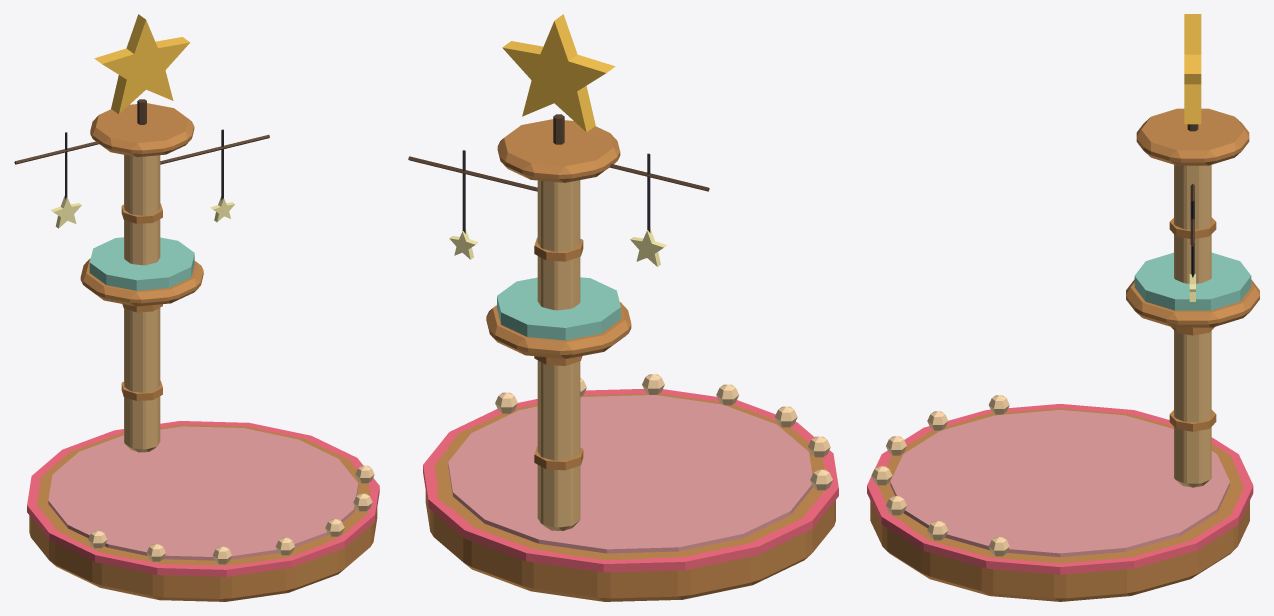
File: CatCafe_Furniture_StageCatTree.fbx
The picture shows the model from 3 angles, left to right: view 1: azimuth 30°, elevation 25°; view 2: azimuth 150°, elevation 25°; view 3: azimuth 270°, elevation 25°; orthographic projection. The views are drawn at different scales.
Visible parts, largest first — view 1: CatCafe_Furniture_StageCatTree_Stage, CatCafe_Furniture_StageCatTree_Bulbs; view 2: CatCafe_Furniture_StageCatTree_Stage, CatCafe_Furniture_StageCatTree_Bulbs; view 3: CatCafe_Furniture_StageCatTree_Stage, CatCafe_Furniture_StageCatTree_Bulbs.
Part boxes in pixels (x1=…): CatCafe_Furniture_StageCatTree_Stage: x1=14, y1=14, x2=379, y2=601; CatCafe_Furniture_StageCatTree_Bulbs: x1=88, y1=465, x2=374, y2=564; CatCafe_Furniture_StageCatTree_Stage: x1=408, y1=14, x2=838, y2=601; CatCafe_Furniture_StageCatTree_Bulbs: x1=495, y1=374, x2=832, y2=490; CatCafe_Furniture_StageCatTree_Stage: x1=867, y1=14, x2=1259, y2=601; CatCafe_Furniture_StageCatTree_Bulbs: x1=871, y1=395, x2=1009, y2=556.
Bounding box in the file's own units: 3.64 × 5.3 × 3.7.
1 material, 1 textured.
